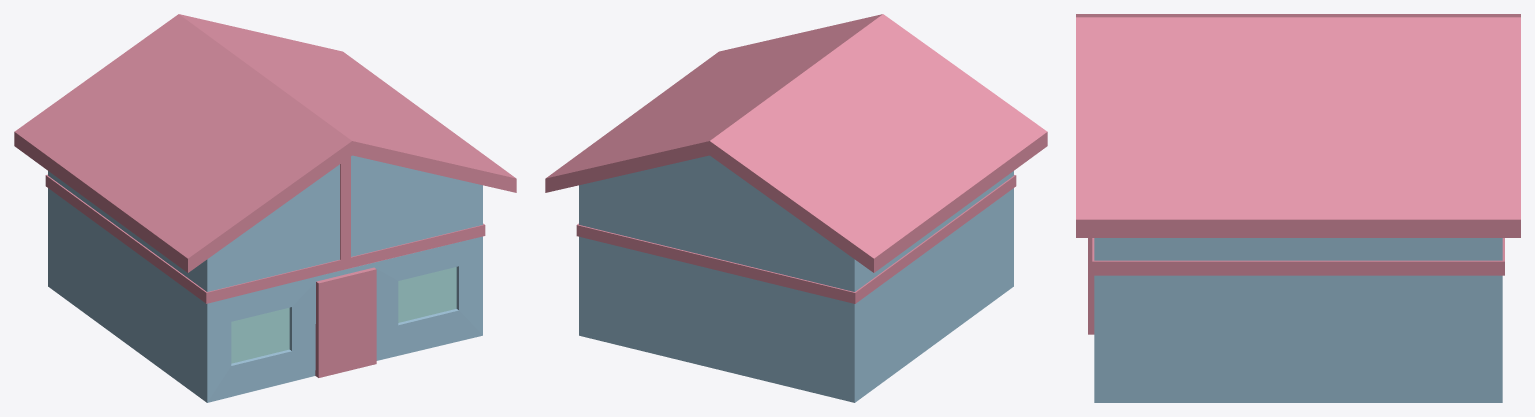
File: house.fbx
3 views of the same model, side by side, from view 1: azimuth 30°, elevation 25°; view 2: azimuth 150°, elevation 25°; view 3: azimuth 270°, elevation 25° (orthographic). The views are drawn at different scales.
Visible parts, largest first — view 1: Cube, Windows; view 2: Cube; view 3: Cube.
Boxes of the visible parts, x1,y1,x2,y2 form: Cube: (14, 14, 516, 402); Windows: (231, 267, 456, 363); Cube: (545, 14, 1047, 402); Cube: (1076, 14, 1520, 402).
Bounding box in the file's own units: 1191 × 809 × 1089.
